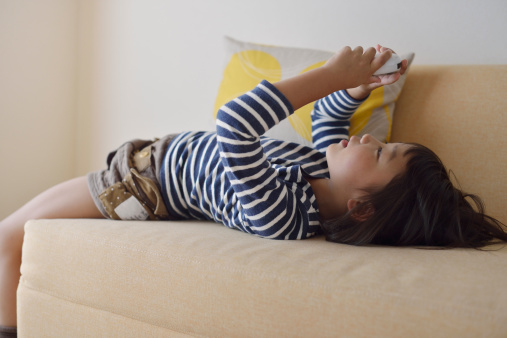deitado: (24, 27, 507, 276)
